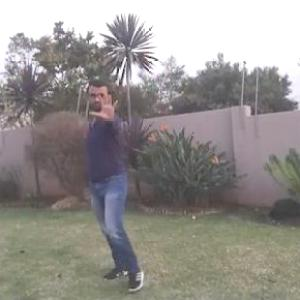follow_hand: (88, 89, 120, 123)
